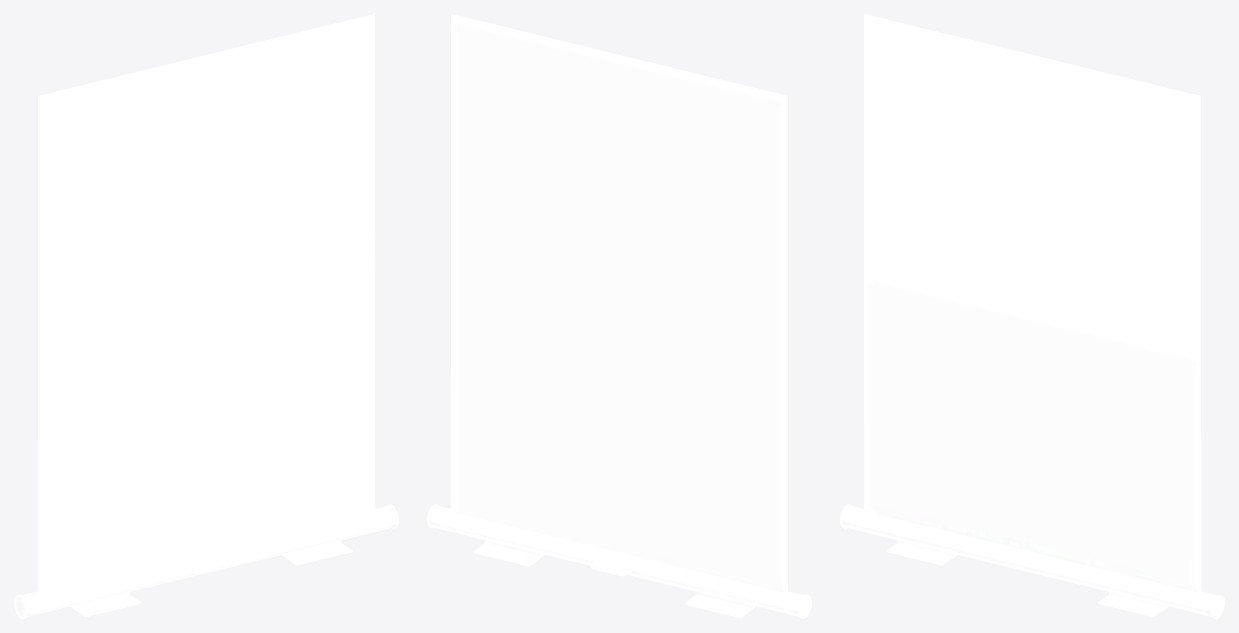
Rendered from projector-screen.lod0.glb.
3 renders of one model, left to right at view 1: azimuth 30°, elevation 25°; view 2: azimuth 150°, elevation 25°; view 3: azimuth 330°, elevation 25°, orthographic.
Parts seen in each view (by area): view 1: Object_4; view 2: Object_4; view 3: Object_4.
Part boxes in pixels (x1,y1,x2,y2): Object_4: (14,14,398,618); Object_4: (427,14,811,618); Object_4: (840,14,1224,618).
Bounding box in the file's own units: 1.94 × 2.6 × 0.2269.
Materials: 1 (1 with a texture image).
